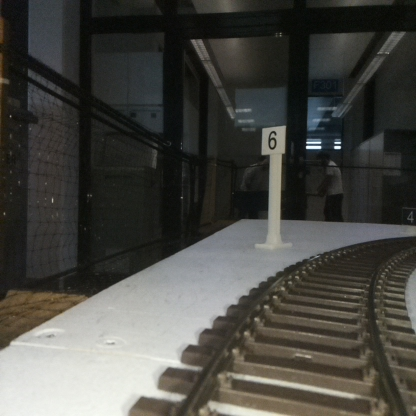white-info-6: (262, 126, 286, 246)
